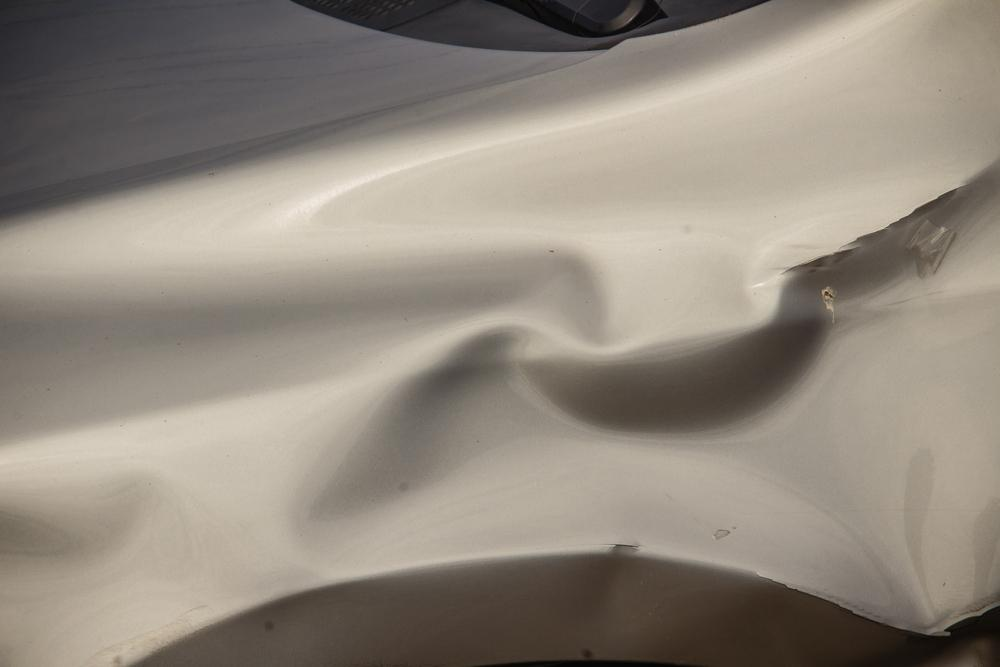dent: (0, 83, 1000, 667)
